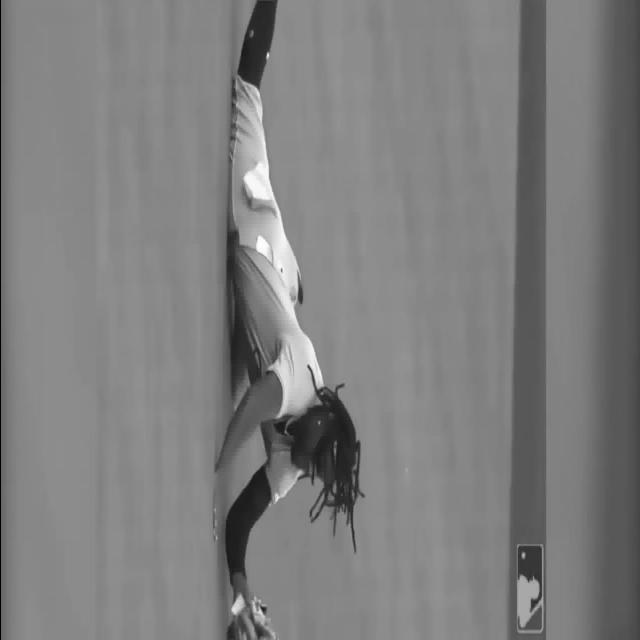baseball_glove: (232, 597, 274, 640)
